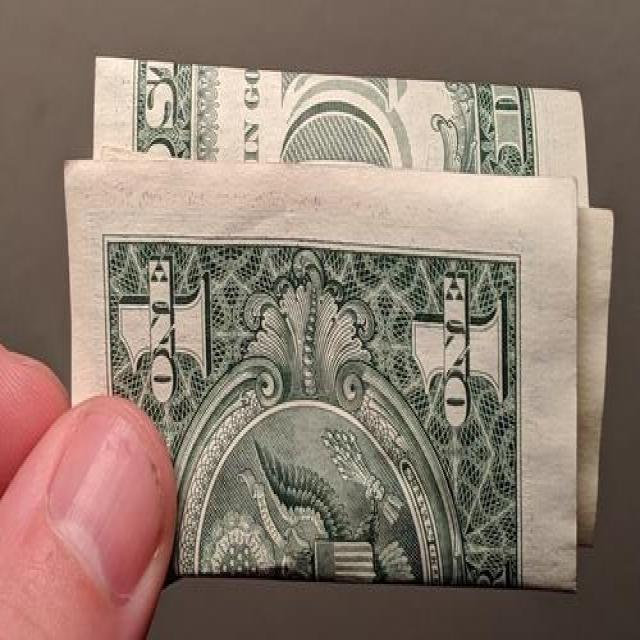1-Back: (61, 48, 618, 596)
